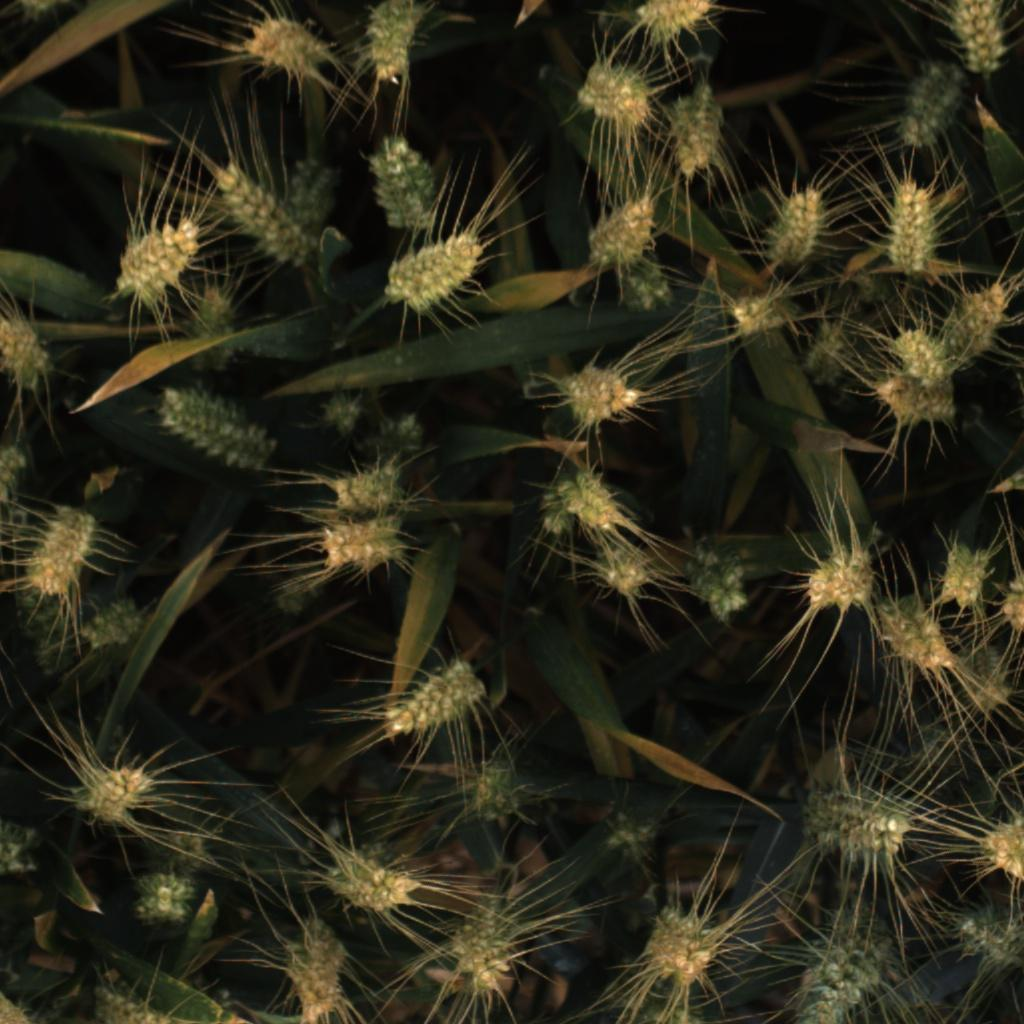0-0: (212, 153, 324, 281), (156, 380, 275, 477), (381, 646, 489, 745), (107, 203, 204, 308), (792, 922, 890, 1024), (20, 497, 104, 603), (382, 233, 483, 320), (801, 784, 911, 863), (359, 131, 441, 231), (886, 56, 968, 156), (278, 919, 354, 1024), (444, 906, 526, 997), (179, 278, 250, 379), (557, 360, 651, 433), (876, 171, 940, 277), (682, 533, 758, 622), (311, 510, 404, 581), (236, 9, 326, 82), (326, 846, 423, 913), (645, 901, 718, 987), (583, 191, 666, 266), (361, 0, 428, 92), (670, 84, 732, 181), (796, 537, 876, 612), (950, 279, 1023, 361), (766, 177, 830, 269), (882, 590, 954, 668), (604, 252, 687, 319), (949, 895, 1024, 969), (118, 863, 203, 928), (77, 760, 153, 832), (319, 464, 413, 522), (581, 56, 652, 132), (937, 0, 1004, 78), (955, 639, 1021, 716), (865, 372, 956, 427), (799, 314, 861, 394), (887, 319, 958, 387), (0, 310, 60, 390), (93, 980, 198, 1024), (557, 468, 628, 533), (280, 163, 344, 232), (593, 541, 663, 604), (935, 537, 994, 610), (470, 757, 531, 825), (134, 814, 205, 871), (83, 590, 149, 651), (630, 0, 718, 45), (978, 807, 1024, 883), (0, 802, 43, 881), (724, 287, 788, 339), (264, 560, 331, 605), (317, 384, 372, 436), (367, 408, 422, 460), (0, 443, 29, 537), (608, 809, 654, 859), (1000, 568, 1024, 634), (201, 996, 256, 1024), (0, 992, 37, 1024)
